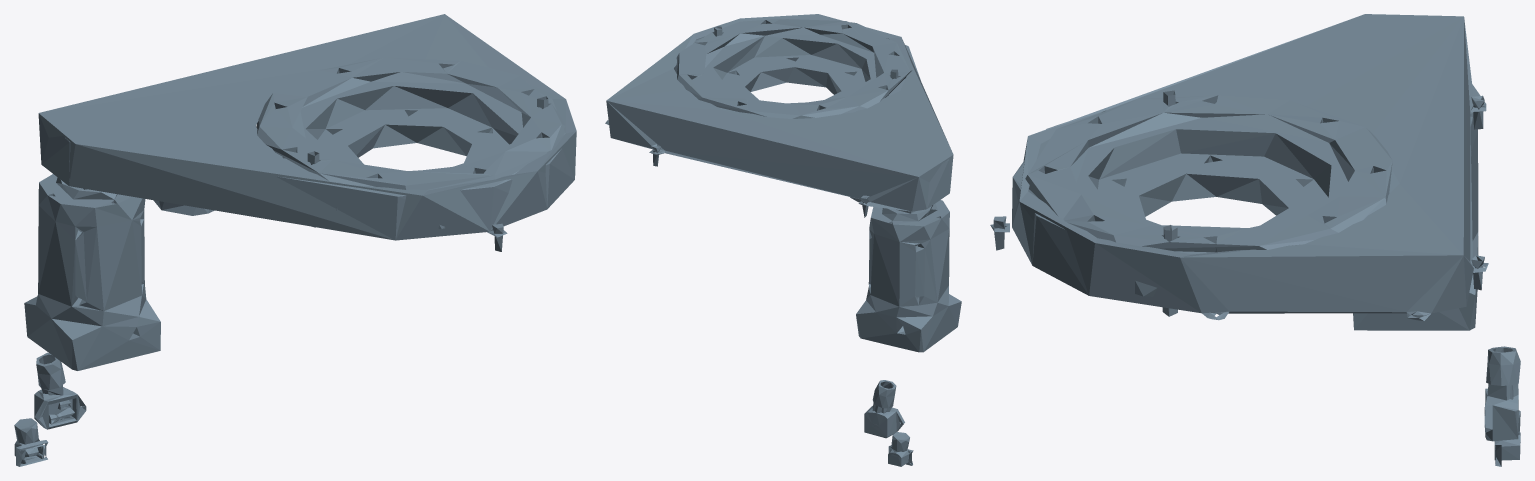
Rendered from susp_RL.dae.
The picture shows the model from 3 angles, left to right: view 1: azimuth 30°, elevation 25°; view 2: azimuth 150°, elevation 25°; view 3: azimuth 270°, elevation 25°; orthographic projection. The views are drawn at different scales.
Parts seen in each view (by area): view 1: node; view 2: node; view 3: node.
Boxes of the visible parts, x1=… form: node: x1=14, y1=14, x2=576, y2=466; node: x1=605, y1=14, x2=961, y2=466; node: x1=990, y1=14, x2=1520, y2=466.
Size of the model in its own units: 0.289 by 0.2516 by 0.2357.
